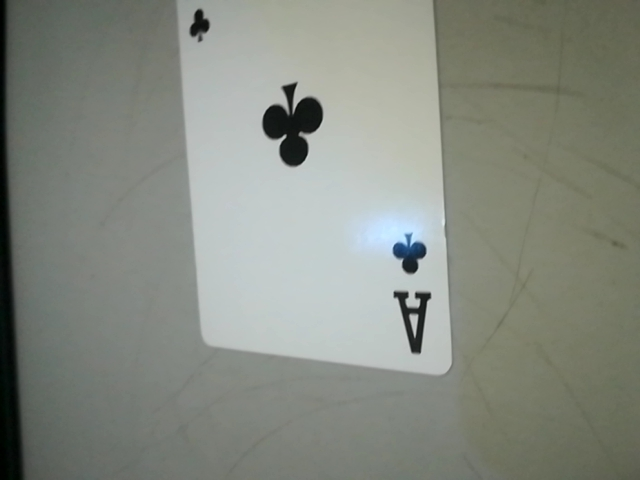mh a: (377, 223, 444, 372)
